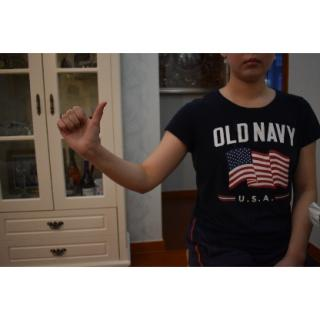DAD: (55, 98, 109, 160)
